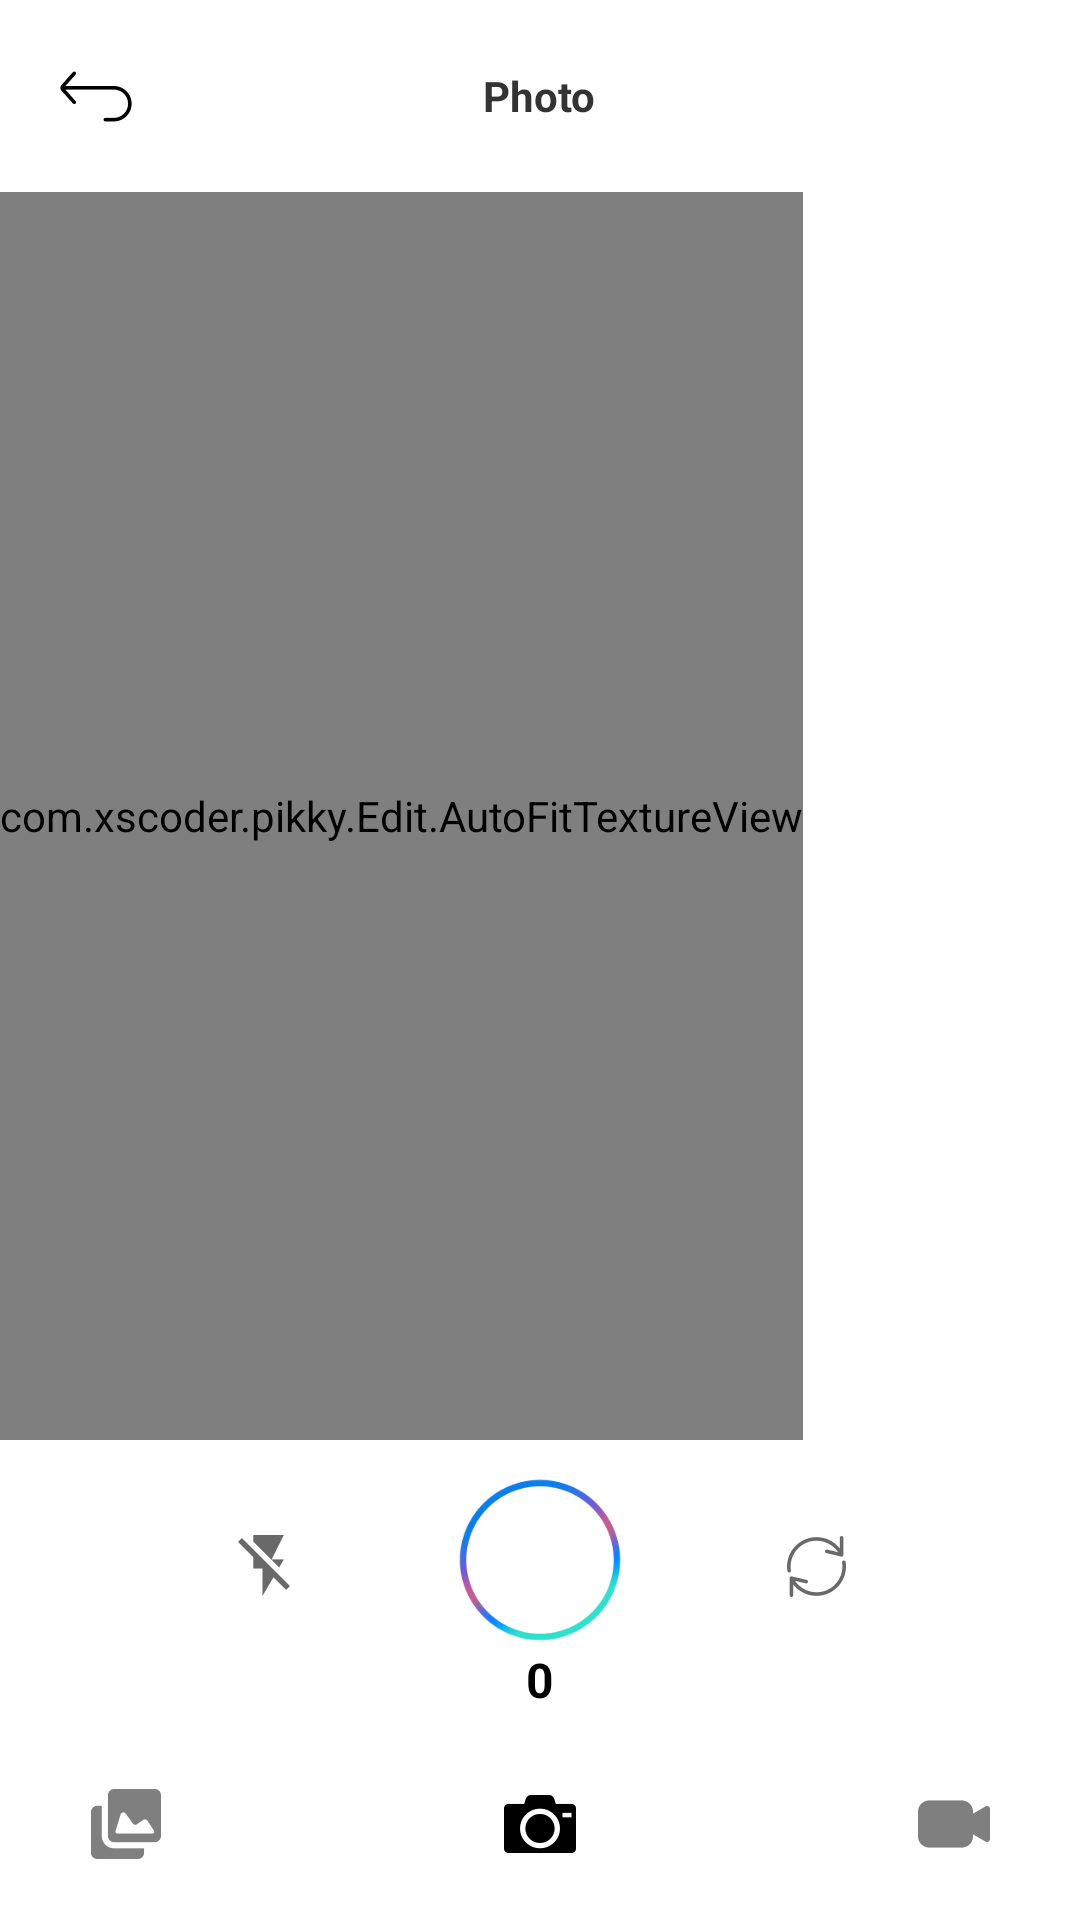

Point at icon controls on the screen. Image size 1080 x 1920, points as (x,y).
back butt: (96,96)
camera butt: (540,1824)
flash off: (264,1565)
gallery butt: (126,1824)
snap photo butt: (540,1560)
switch camera butt: (816,1566)
video butt: (954,1824)
